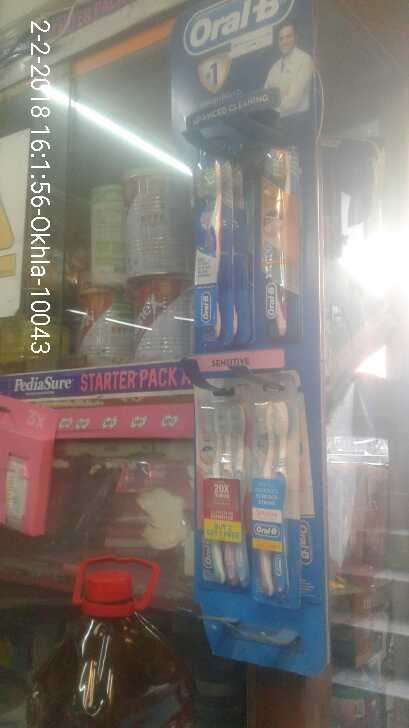oralb: (187, 156, 252, 353), (248, 400, 294, 593), (201, 409, 251, 583), (263, 138, 299, 341)
